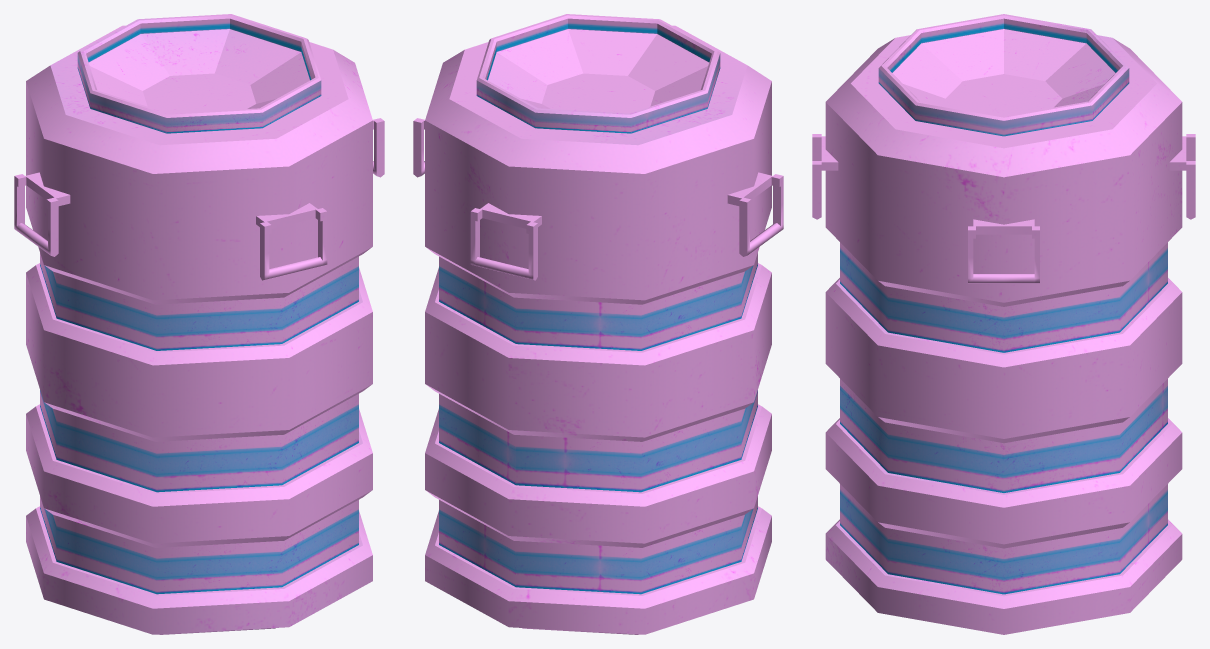
File: Barrel_01_SM_Low.fbx
The picture shows the model from 3 angles, left to right: view 1: azimuth 30°, elevation 25°; view 2: azimuth 150°, elevation 25°; view 3: azimuth 270°, elevation 25°; orthographic projection.
Parts seen in each view (by area): view 1: Barrel, Handle31, Handle30; view 2: Barrel, Handle31, Handle30; view 3: Barrel, Handle30, Handle31.
Part boxes in pixels (x1,y1,x2,y2): Barrel: (26, 14, 372, 634); Handle31: (14, 118, 384, 256); Handle30: (256, 203, 327, 280); Barrel: (425, 14, 771, 634); Handle31: (413, 118, 783, 256); Handle30: (470, 203, 541, 280); Barrel: (825, 14, 1182, 634); Handle30: (812, 134, 1195, 219); Handle31: (968, 219, 1039, 283).
Size of the model in its own units: 101 by 147 by 101.
Materials: 2 (2 with a texture image).
